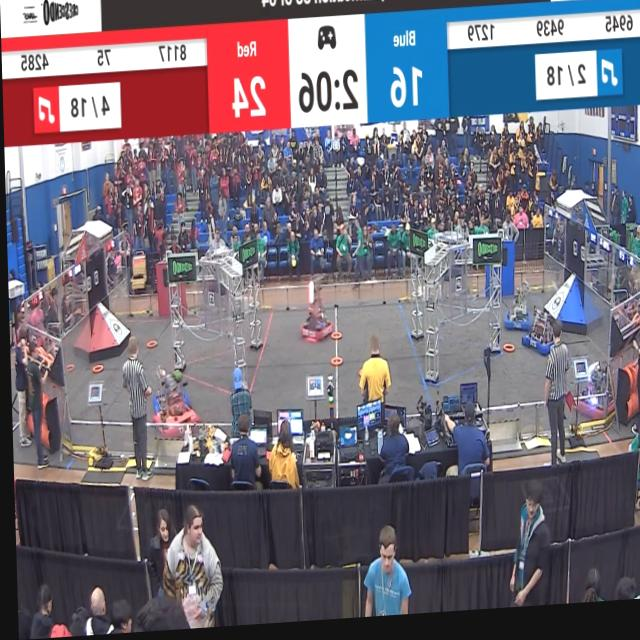Robot: (567, 358, 611, 430), (151, 384, 196, 442), (518, 306, 555, 367), (295, 300, 331, 350), (151, 368, 186, 414), (502, 290, 528, 343)
